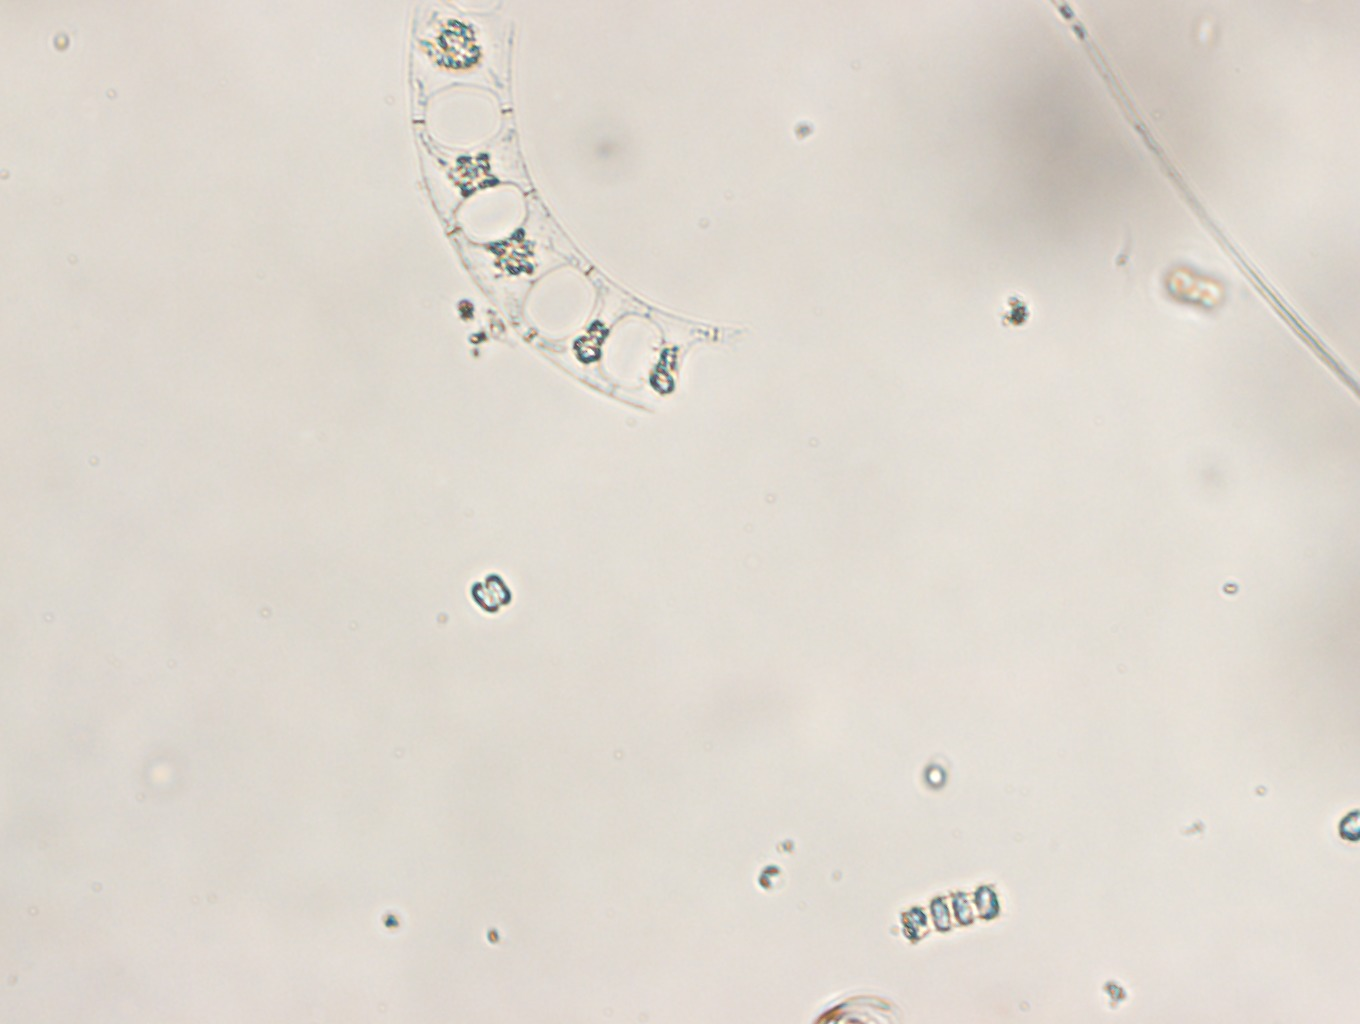eucampia: (405, 3, 753, 417)
